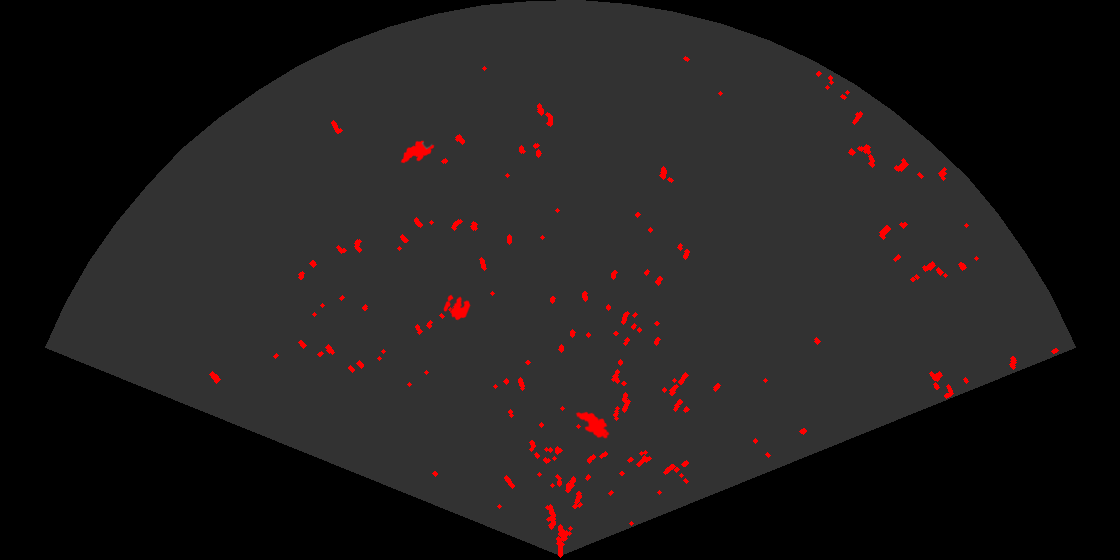AUV: (574, 410, 611, 440), (399, 139, 436, 165)
ball: (442, 293, 472, 322)
